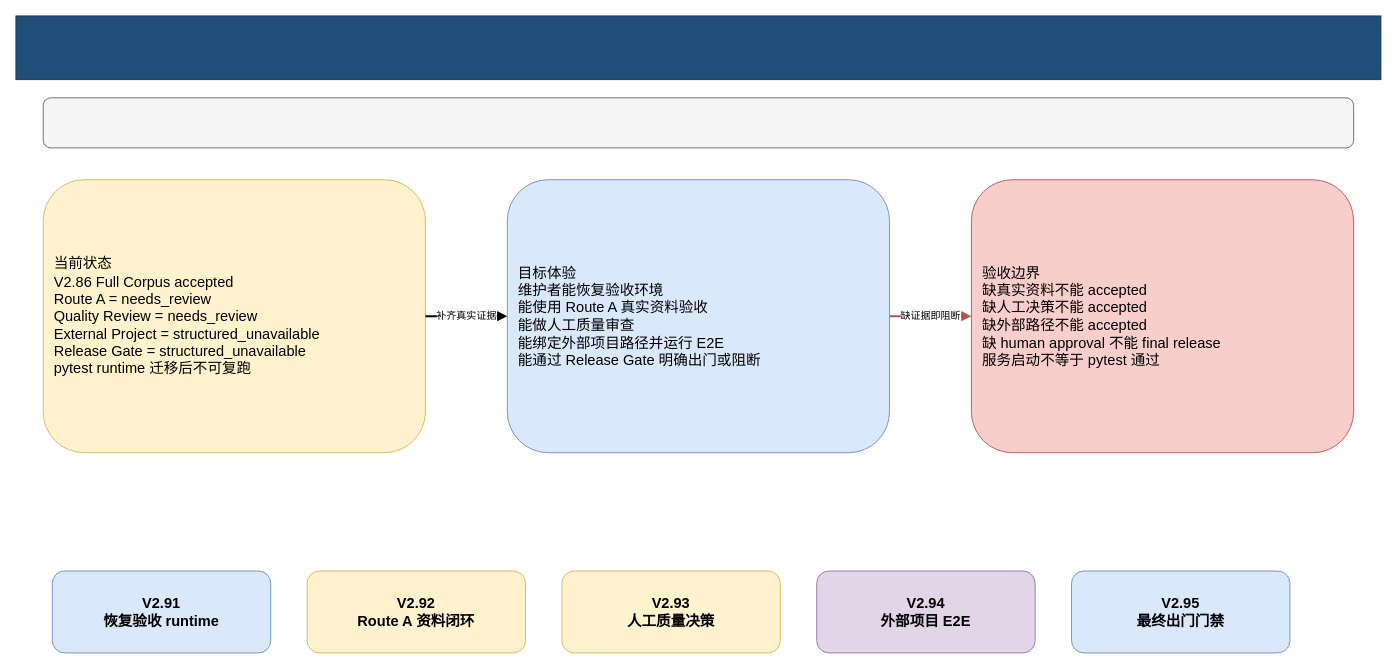
Image size: 1397x669. Some labels were removed from this diagram. The centre of each missing label's shape, as x and y in pixels:
"V2.91-V2.95 目标：真实验收闭环与本机恢复环境加固" goes at point 698,47.
"颜色：绿色=已实现可复用；蓝色=本阶段待新增；黄色=需人工确认；红色=阻断或禁止；灰色=外部环境" goes at point 698,122.
